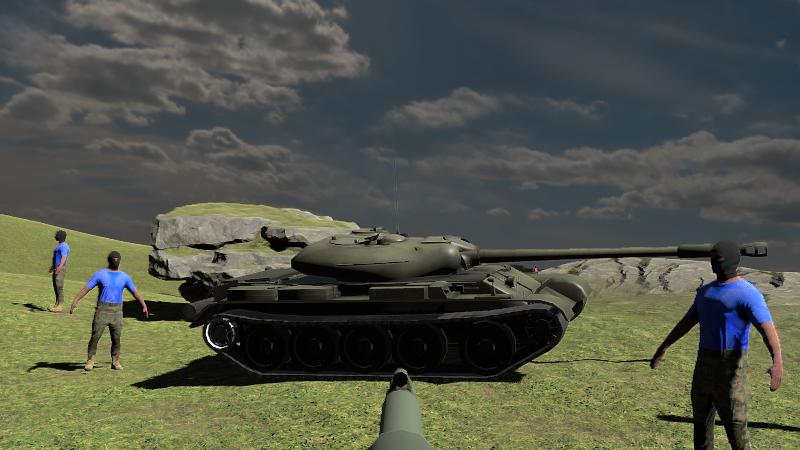Human: (651, 239, 784, 447), (71, 250, 147, 372), (47, 229, 70, 313)
Tank: (185, 229, 750, 382)
